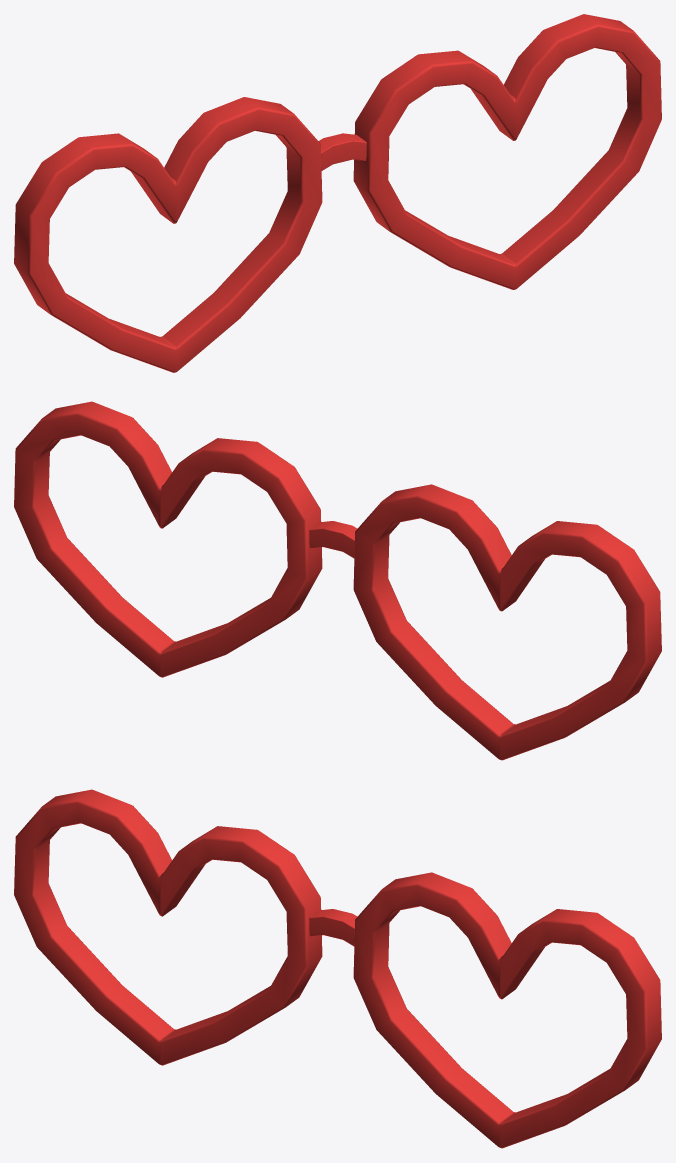
File: Glasses_024.glb
3 renders of one model, top to bottom at view 1: azimuth 30°, elevation 25°; view 2: azimuth 150°, elevation 25°; view 3: azimuth 330°, elevation 25°, orthographic.
Visible parts, largest first — view 1: Glasses_024; view 2: Glasses_024; view 3: Glasses_024.
Part boxes in pixels (<box>): Glasses_024: <box>14,14,661,372</box>; Glasses_024: <box>14,401,661,760</box>; Glasses_024: <box>14,789,661,1148</box>.
Bounding box in the file's own units: 0.3896 × 0.1442 × 0.018.
1 material, 1 textured.
